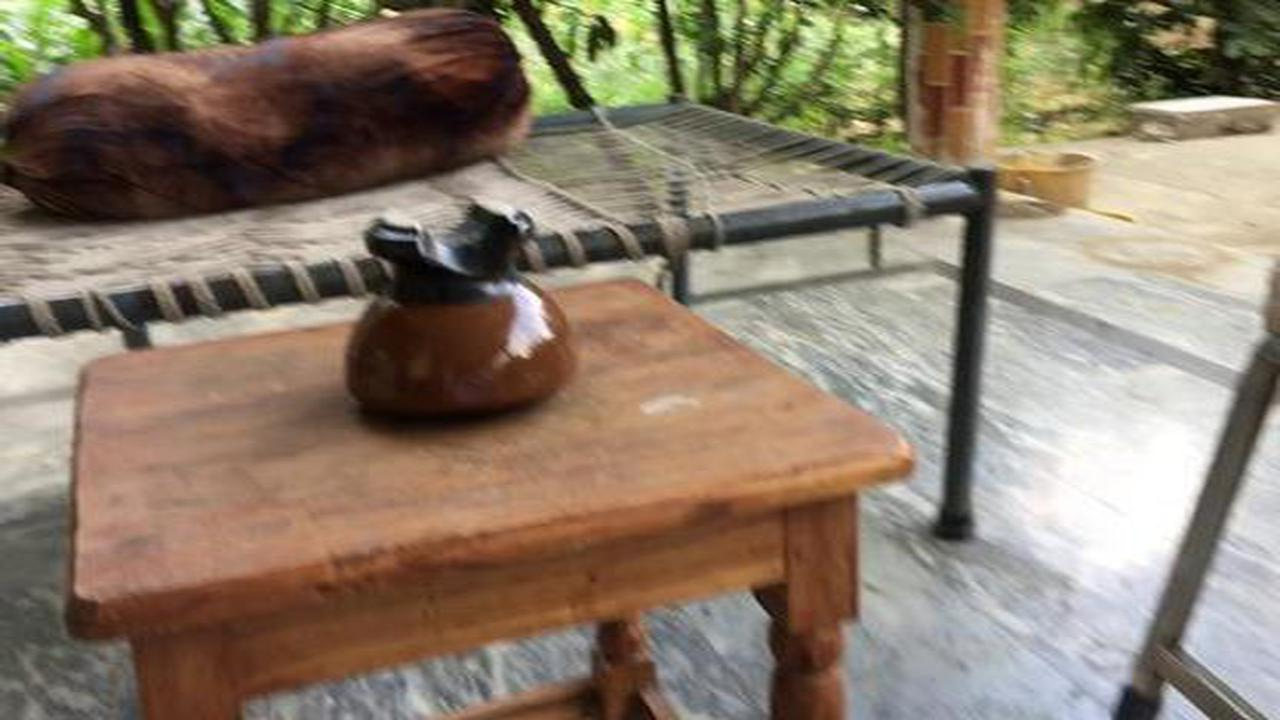insulator_pin: (321, 192, 597, 433)
